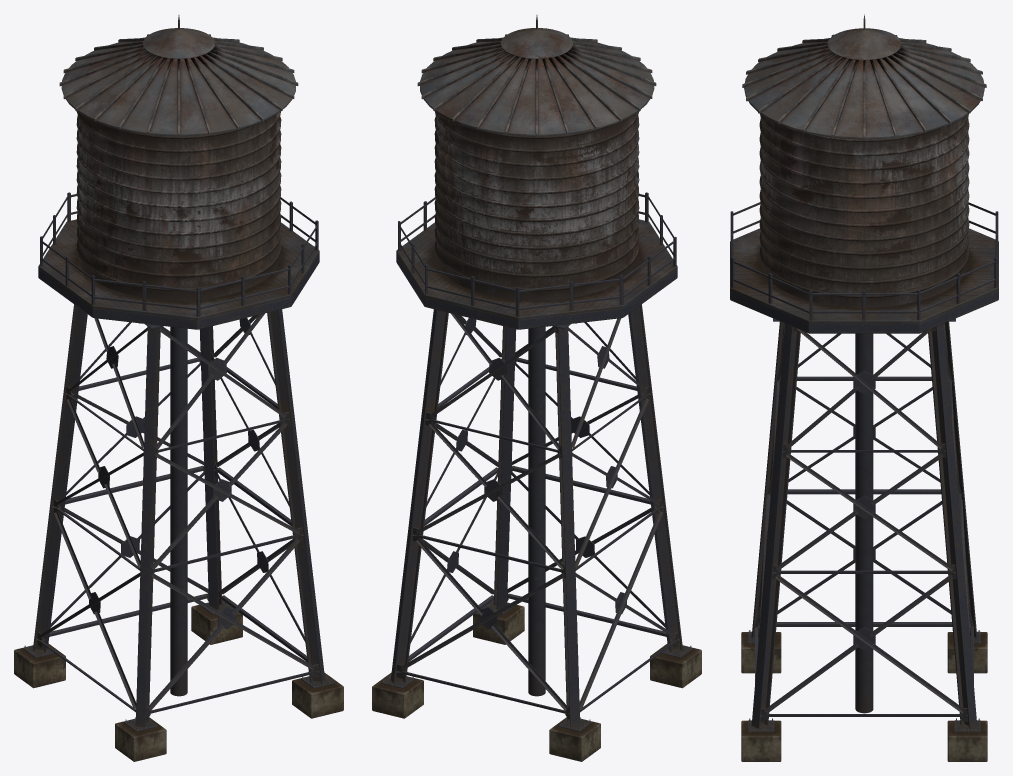
The model's file is WaterTower.fbx.
3 views of the same model, side by side, from view 1: azimuth 30°, elevation 25°; view 2: azimuth 150°, elevation 25°; view 3: azimuth 270°, elevation 25° (orthographic). The views are drawn at different scales.
Visible parts, largest first — view 1: water_tower.1_1; view 2: water_tower.1_1; view 3: water_tower.1_1.
Boxes of the visible parts, left/top/right/bottom form: water_tower.1_1: left=14, top=15, right=343, bottom=761; water_tower.1_1: left=372, top=15, right=701, bottom=761; water_tower.1_1: left=730, top=14, right=998, bottom=761.
Size of the model in its own units: 245 by 700 by 245.
